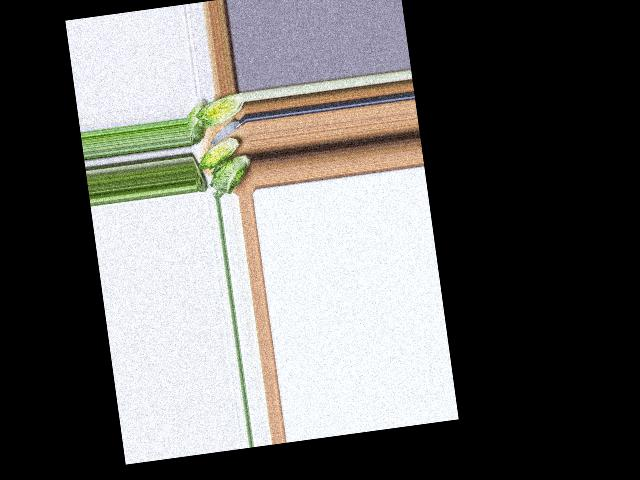lettuce: (186, 99, 211, 144)
